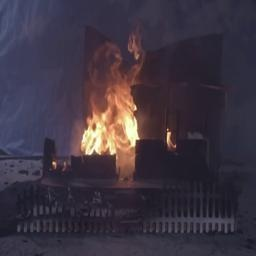fire: (75, 44, 146, 166)
